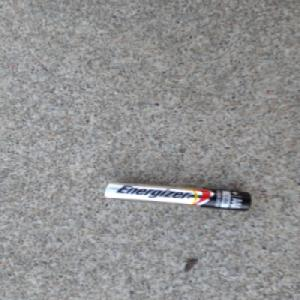Battery: (100, 179, 249, 212)
